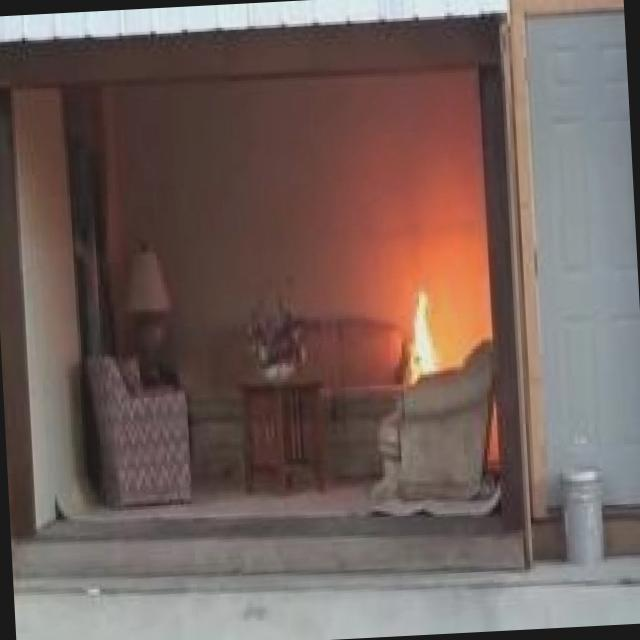fire: (393, 273, 460, 402)
